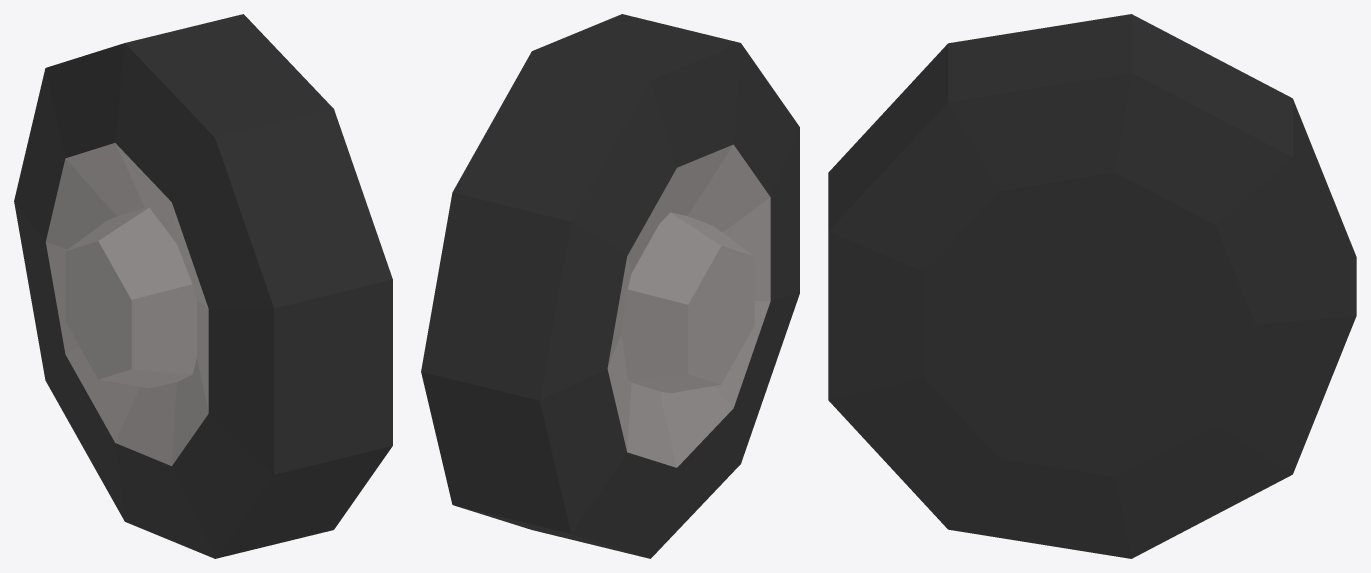
File: bus-passenger-wheel_FR.glb
3 views of the same model, side by side, from view 1: azimuth 30°, elevation 25°; view 2: azimuth 150°, elevation 25°; view 3: azimuth 270°, elevation 25° (orthographic).
Parts seen in each view (by area): view 1: bus-passenger-wheel_FR; view 2: bus-passenger-wheel_FR; view 3: bus-passenger-wheel_FR.
Boxes of the visible parts, x1,y1,x2,y2 form: bus-passenger-wheel_FR: (14, 14, 392, 558); bus-passenger-wheel_FR: (421, 14, 799, 558); bus-passenger-wheel_FR: (828, 14, 1356, 558).
Bounding box in the file's own units: 0.4357 × 1.08 × 1.06.
Materials: 1 (1 with a texture image).
